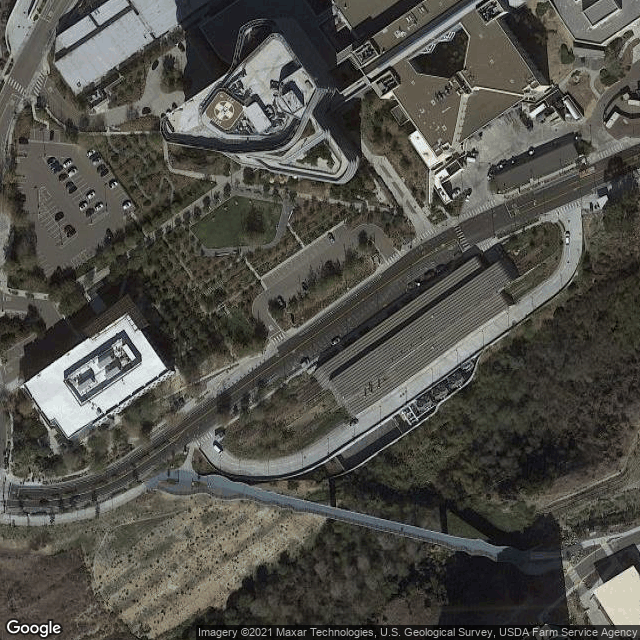Helipad: (195, 87, 250, 134)
